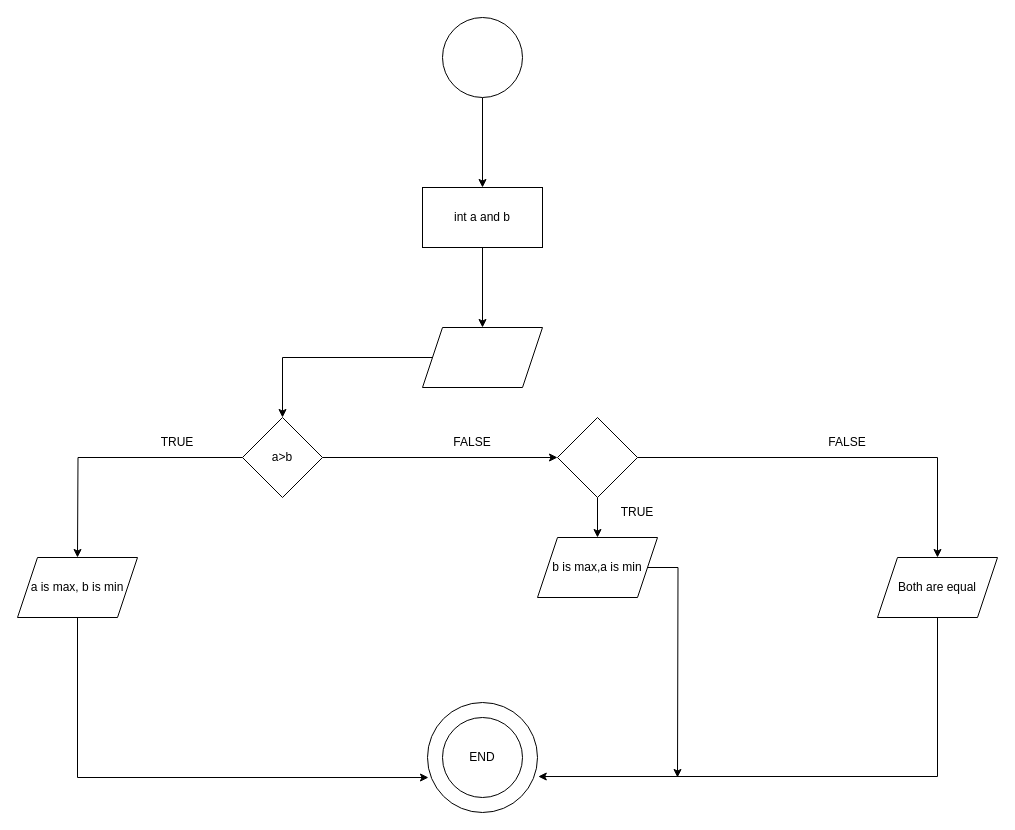
This 1015x830 diagram has some shape labels left out. The shapes that lost their labels are listed below. From the top down, each one's box as (x1, y1, x2, y2) in pixels, then its label:
(442, 16, 522, 98): START
(422, 326, 542, 388): Read a and b
(556, 416, 638, 498): b>a
